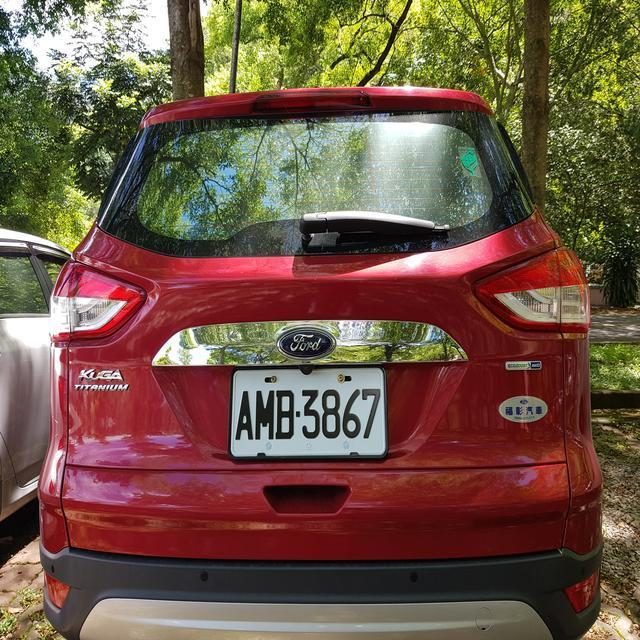license: (233, 373, 385, 449)
